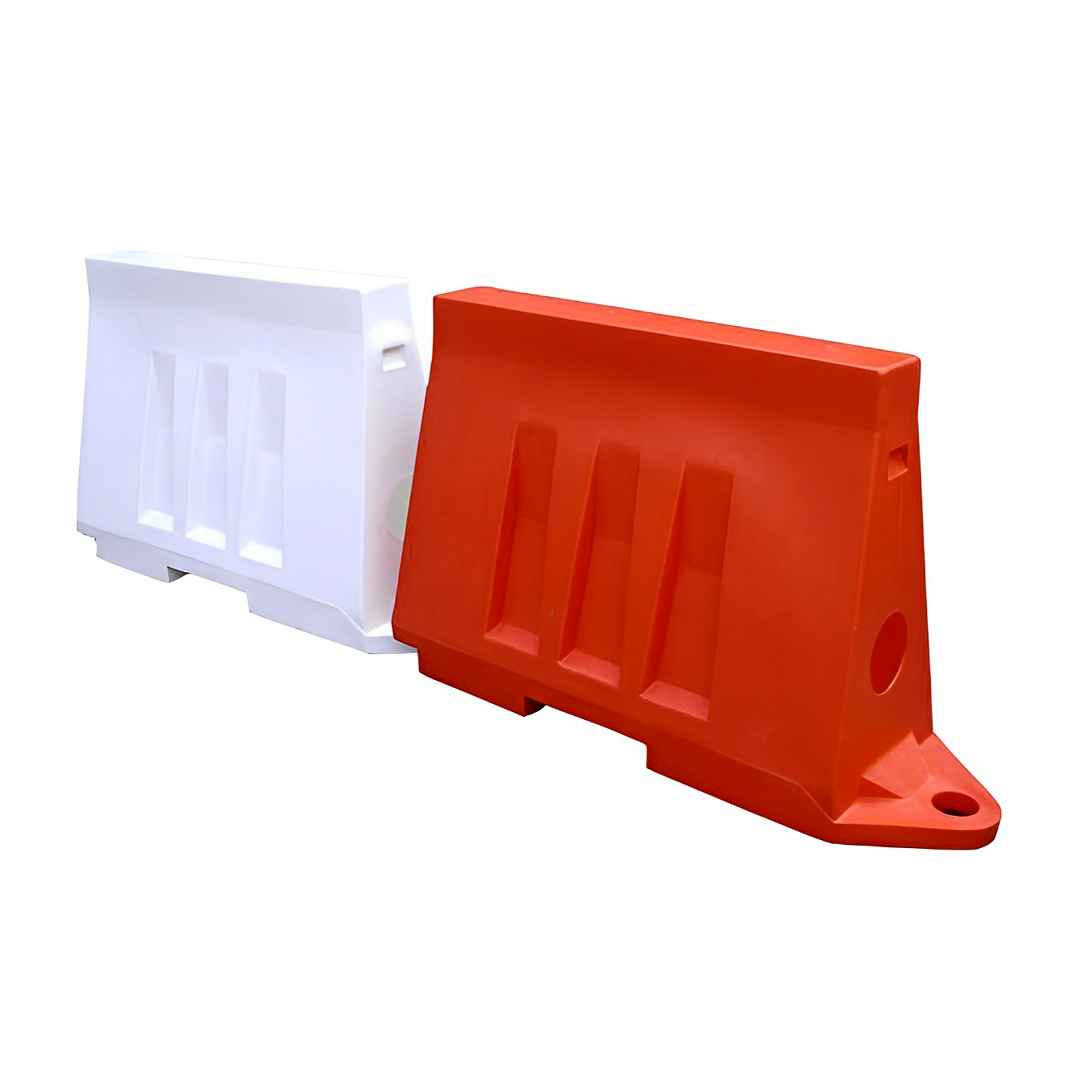Barrier: (59, 238, 1057, 863)
